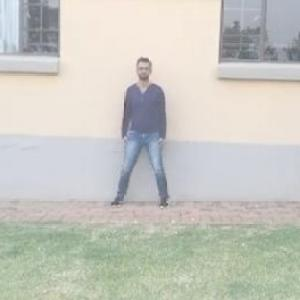follow: (123, 55, 168, 210)
